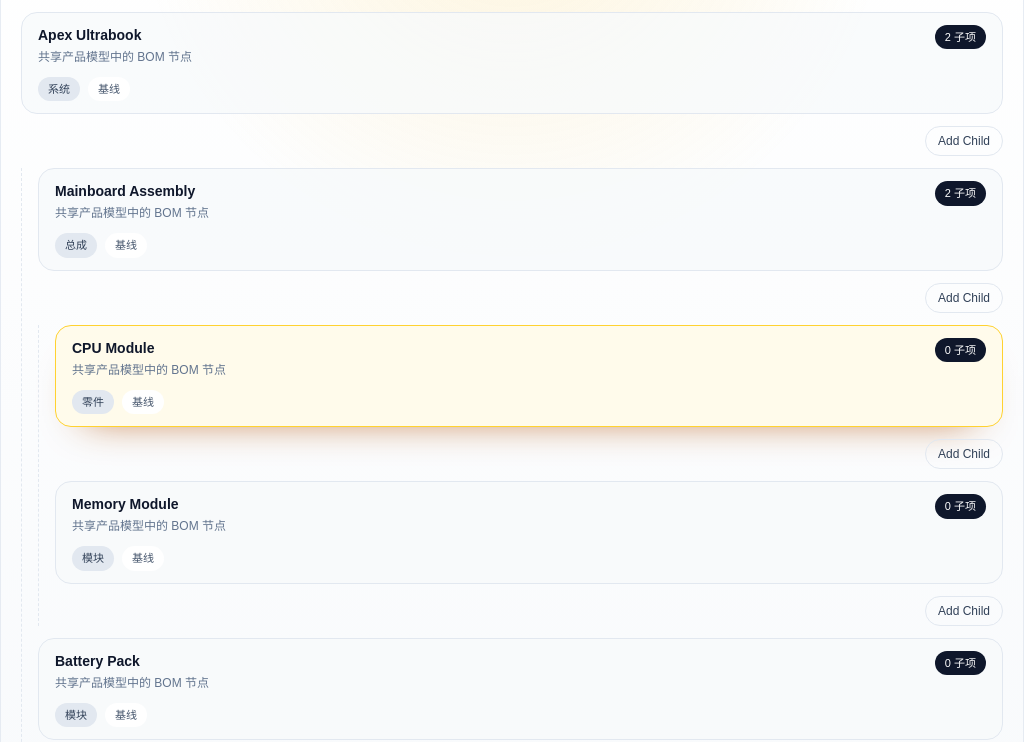
it: ProductModelingPage › captures propagation metadata when creating a changeable parameter
The image size is (1024, 742).
(page scrolled)
Click the button "CPU Module 共享产品模型中的 BOM 节点 0 子项 零件 基线" at (113, 348), box [55,324,1003,427]
(page scrolled)
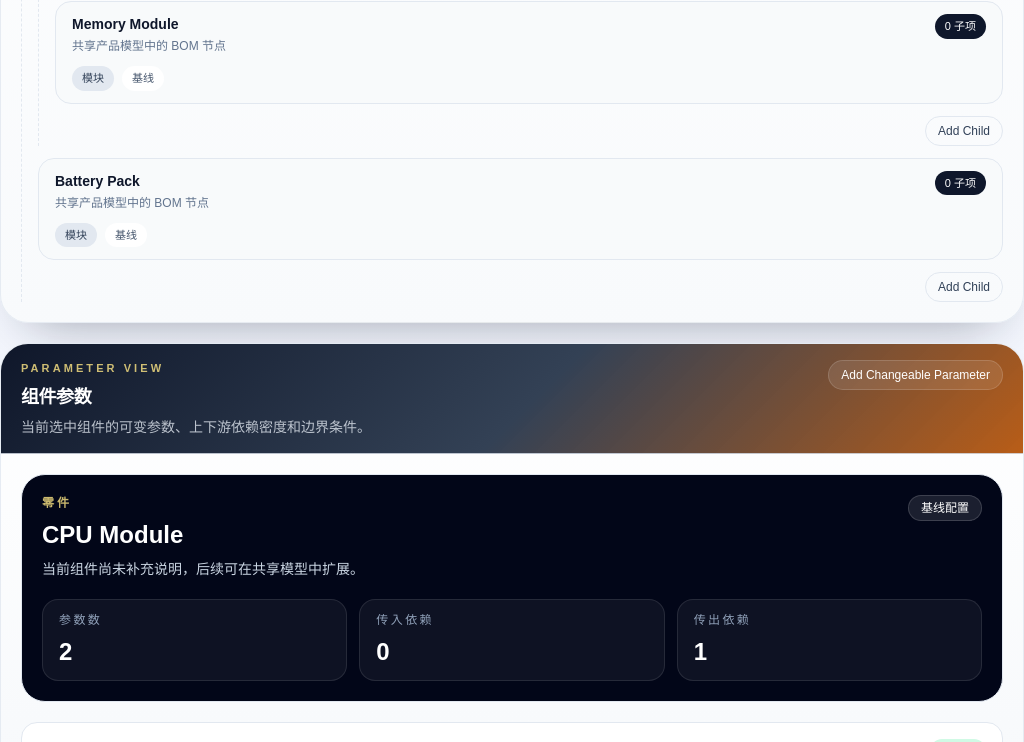
Click the button "Add Changeable Parameter" at (916, 375), box [828,360,1003,390]
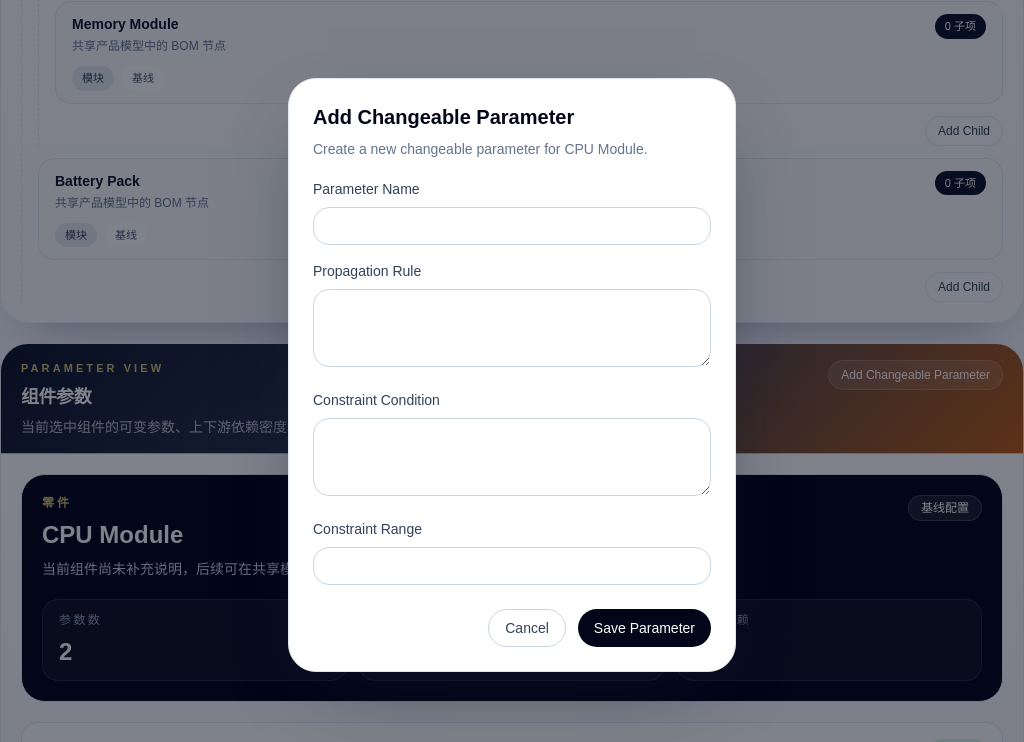
Type "Thermal Margin" into the field labelled "Parameter Name" at (512, 226), box [313,207,711,245]
Type "Raise thermal headroom toward the battery pack." into the text box labelled "Propagation Rule" at (512, 328), box [313,289,711,367]
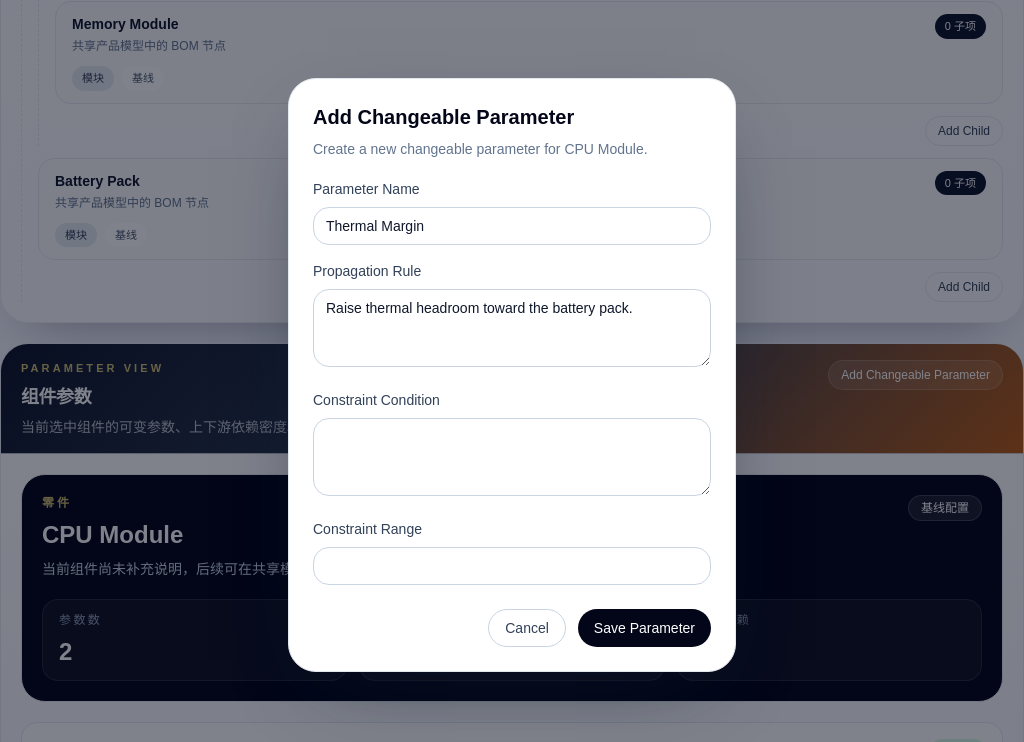
Type "Only valid when fan mode remains performance." into the text box labelled "Constraint Condition" at (512, 457), box [313,418,711,496]
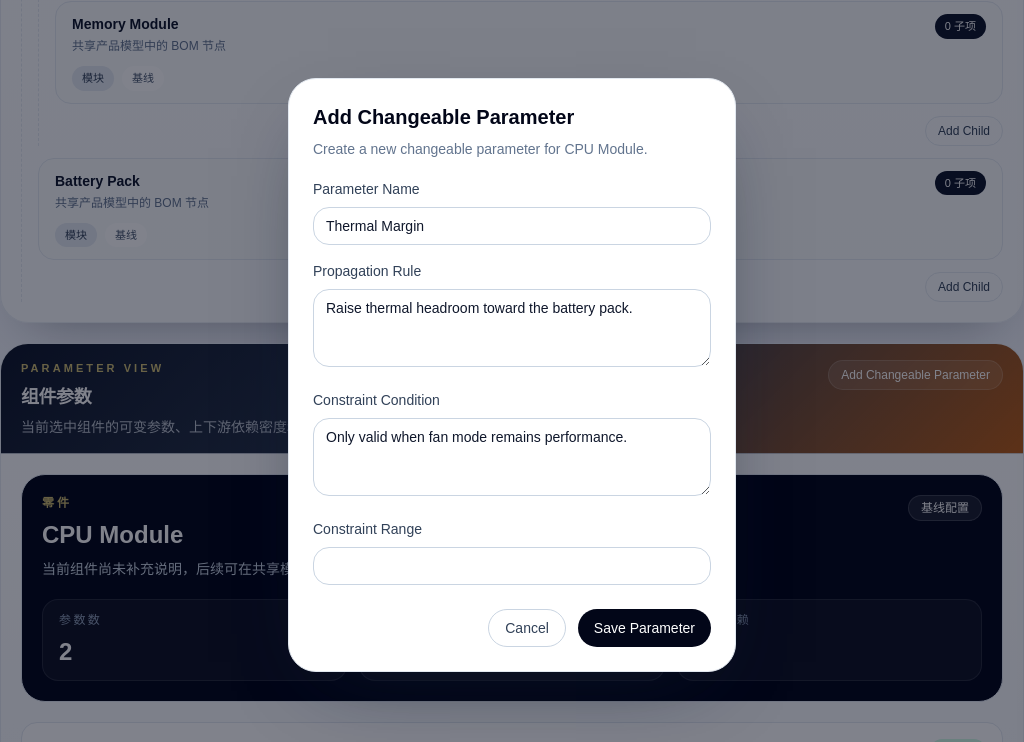
Type "8% - 15%" into the field labelled "Constraint Range" at (512, 566), box [313,547,711,585]
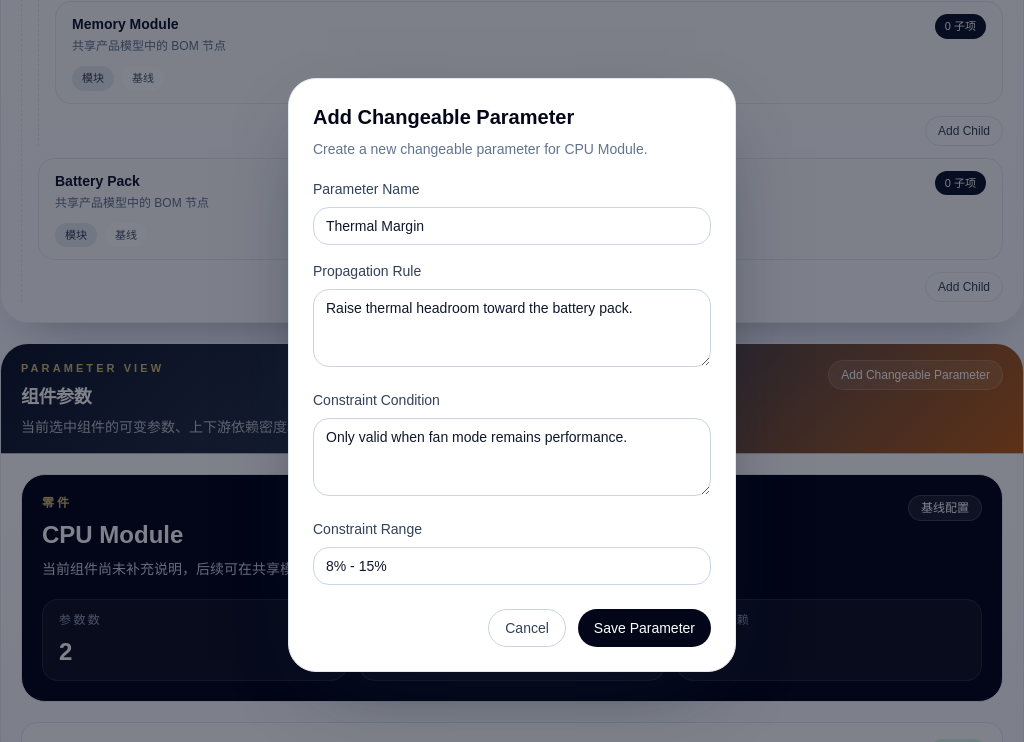
Click the button "Save Parameter" at (644, 628), box [578,609,711,647]
(page scrolled)
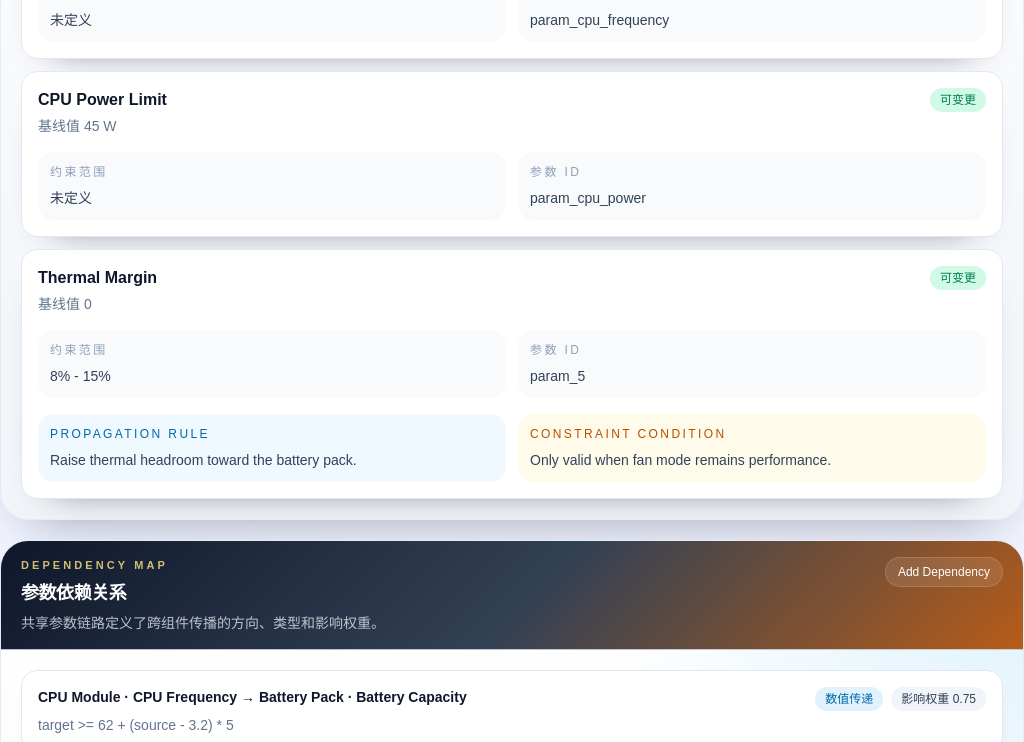
Result: the heading "Thermal Margin" is shown at [38,266,157,290]
Result: the text "Raise thermal headroom toward the battery pack." is shown at [50,452,357,468]
Result: the text "Only valid when fan mode remains performance." is shown at [530,452,831,468]
